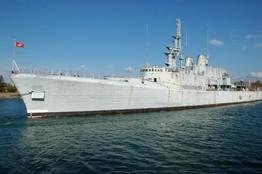warship: (8, 17, 262, 124)
